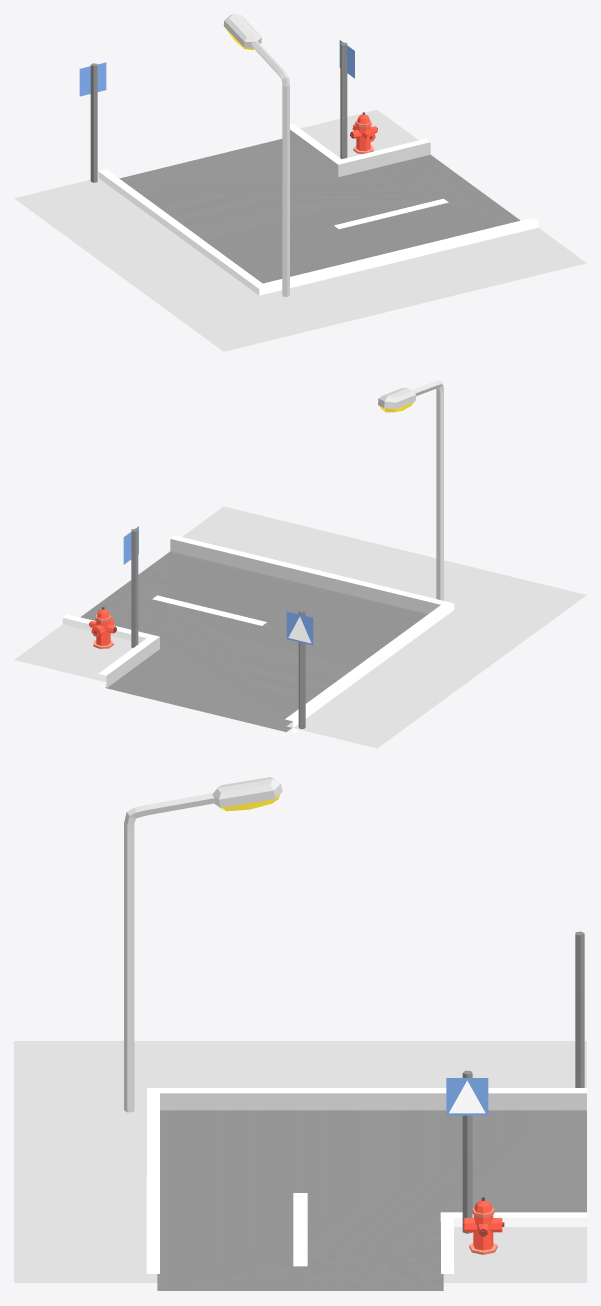
Rendered from CCC.glb.
3 renders of one model, top to bottom at view 1: azimuth 30°, elevation 25°; view 2: azimuth 150°, elevation 25°; view 3: azimuth 270°, elevation 25°, orthographic. The views are drawn at different scales.
Visible parts, largest first — view 1: road_tile_1x1_11; view 2: road_tile_1x1_11; view 3: road_tile_1x1_11.
Part boxes in pixels (x1=…): road_tile_1x1_11: x1=14, y1=14, x2=586, y2=351; road_tile_1x1_11: x1=14, y1=380, x2=586, y2=748; road_tile_1x1_11: x1=14, y1=777, x2=586, y2=1290.
Size of the model in its own units: 8 by 5.25 by 8.
1 material, 1 textured.
